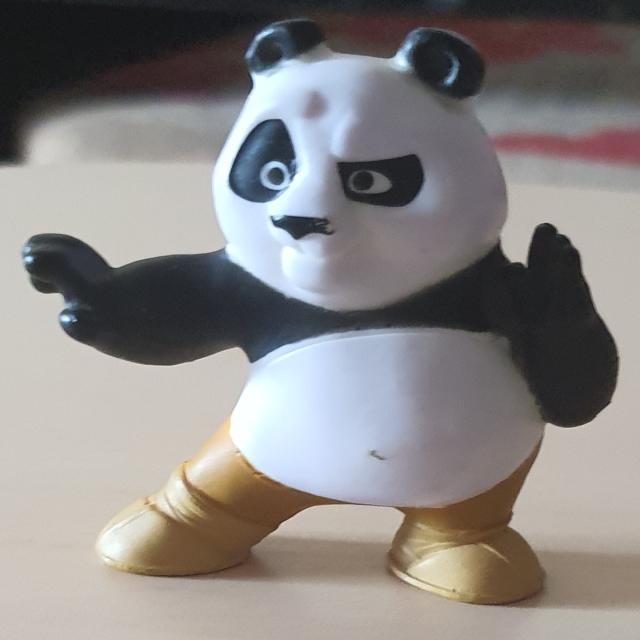Panda: (21, 18, 620, 606)
